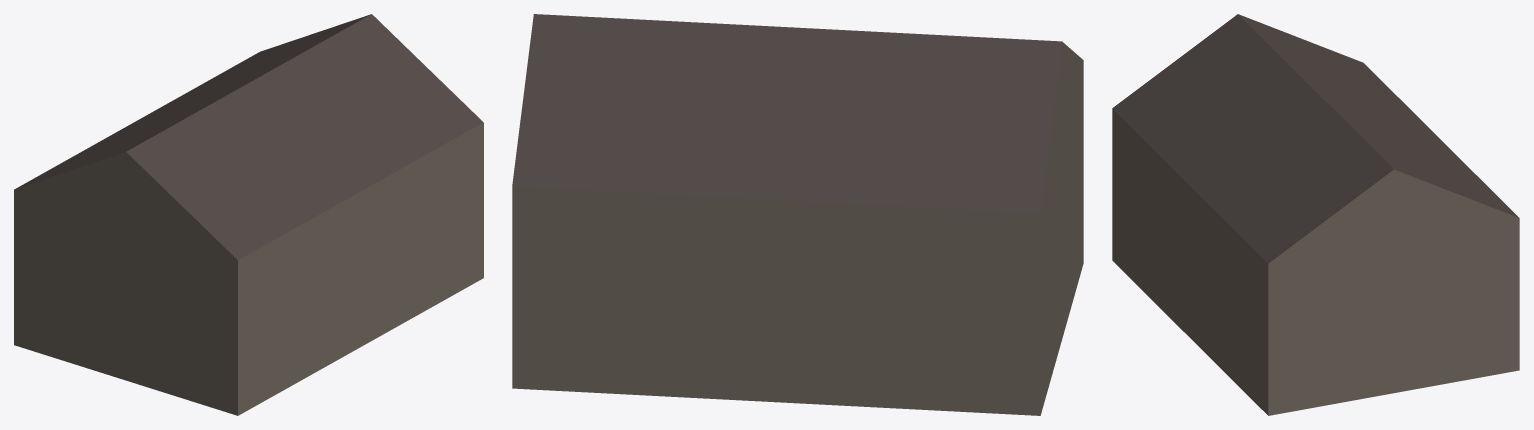
The picture shows the model from 3 angles, left to right: view 1: azimuth 30°, elevation 25°; view 2: azimuth 150°, elevation 25°; view 3: azimuth 270°, elevation 25°; orthographic projection. The views are drawn at different scales.
Visible parts, largest first — view 1: HP-w1200769505; view 2: HP-w1200769505; view 3: HP-w1200769505.
Boxes of the visible parts, <box> form: HP-w1200769505: <box>14,14,483,415</box>; HP-w1200769505: <box>512,14,1083,415</box>; HP-w1200769505: <box>1112,14,1519,415</box>.
Bounding box in the file's own units: 16.99 × 8.82 × 14.56.
